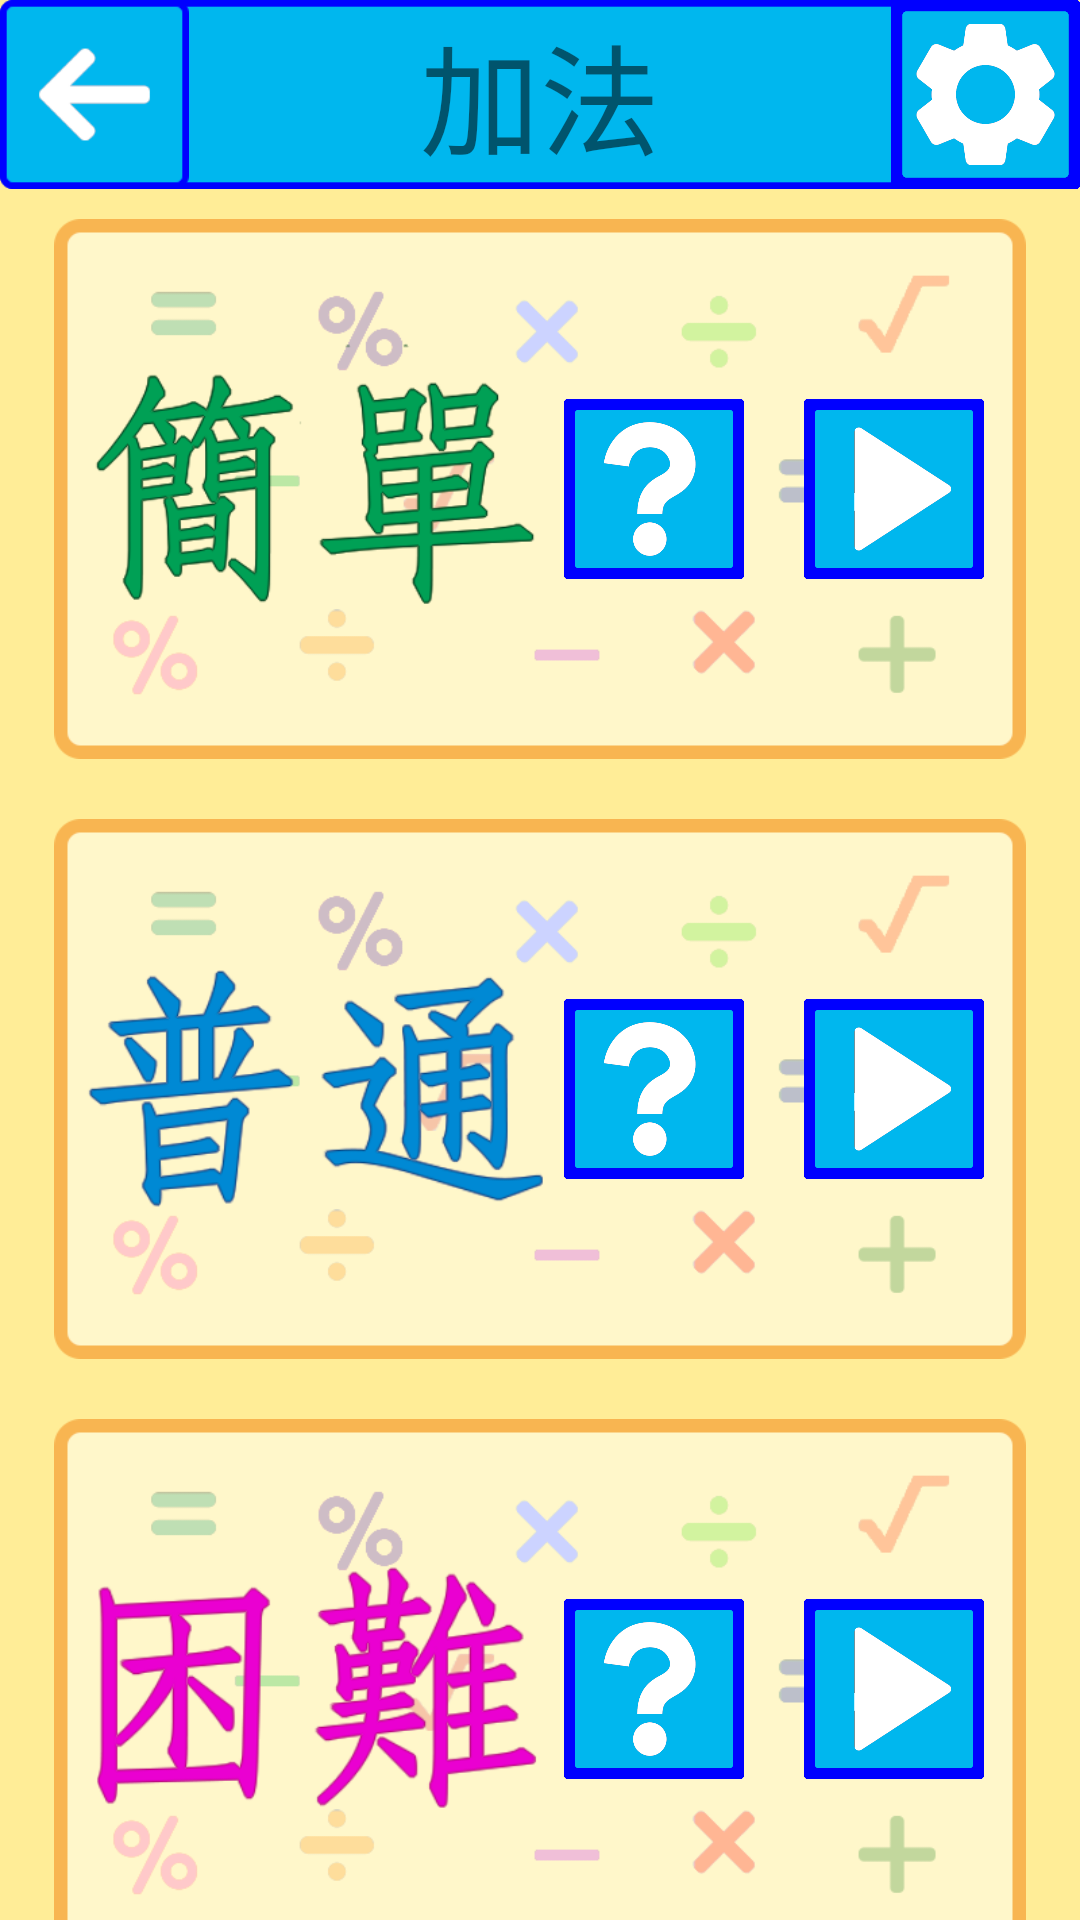

Screen size 1080*1920. Icon name, then its center in pixels as (x=x, y=y):
backto: (x=94, y=94)
gear: (x=985, y=94)
